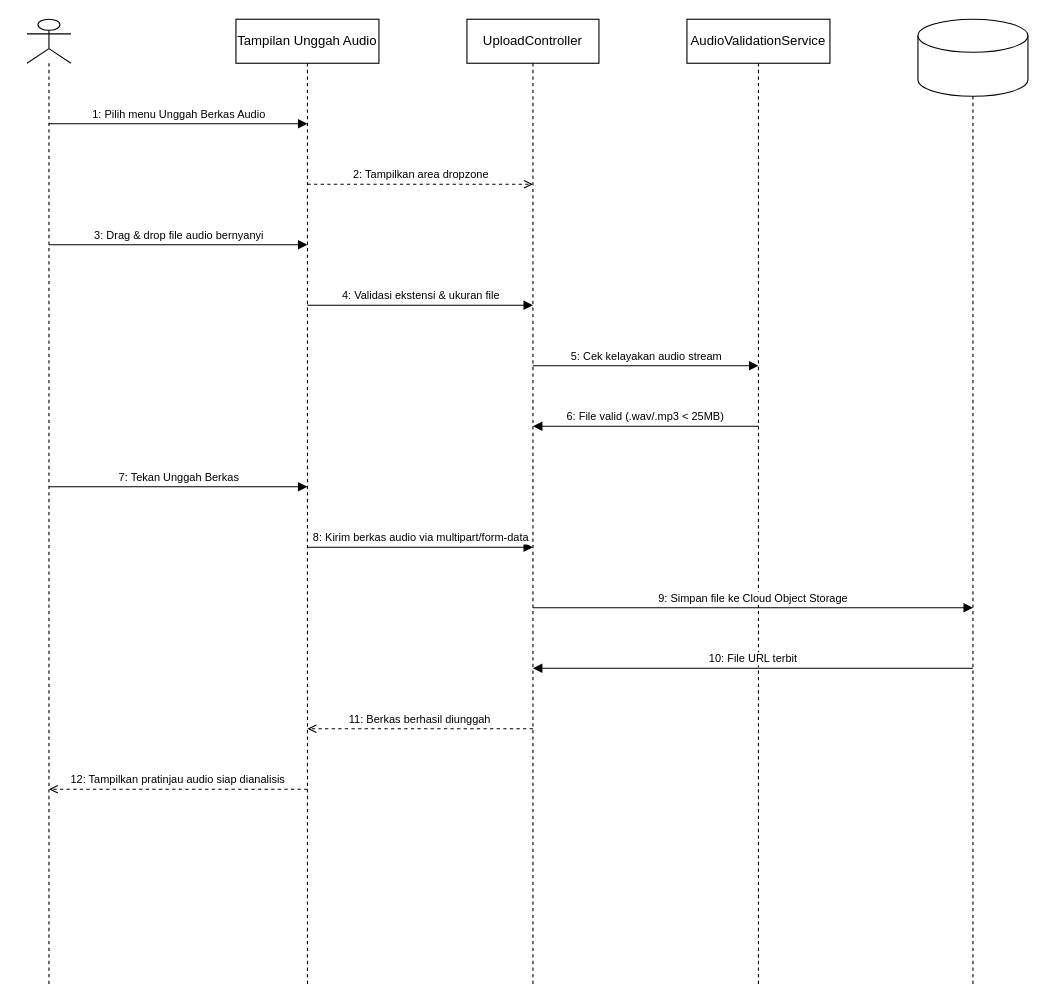
Some shapes in this 1047 by 1008 pixel diagram are drawn without their labels. Each missing label, with the box of its shape:
<<Database>> StorageServer: (917, 18, 1028, 96)
Pengguna: (26, 18, 71, 987)
